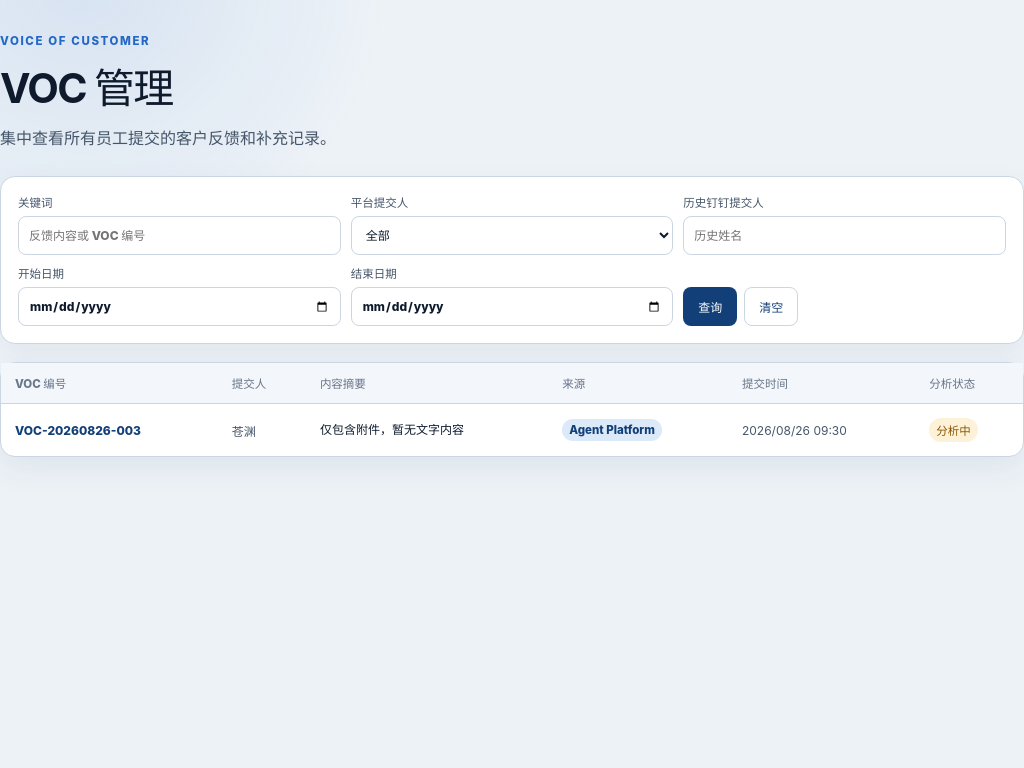
Test: VOC management page › renders an explicit placeholder for attachment-only history
Click the button "VOC-20260826-003": (78, 430) [15,423,141,438]
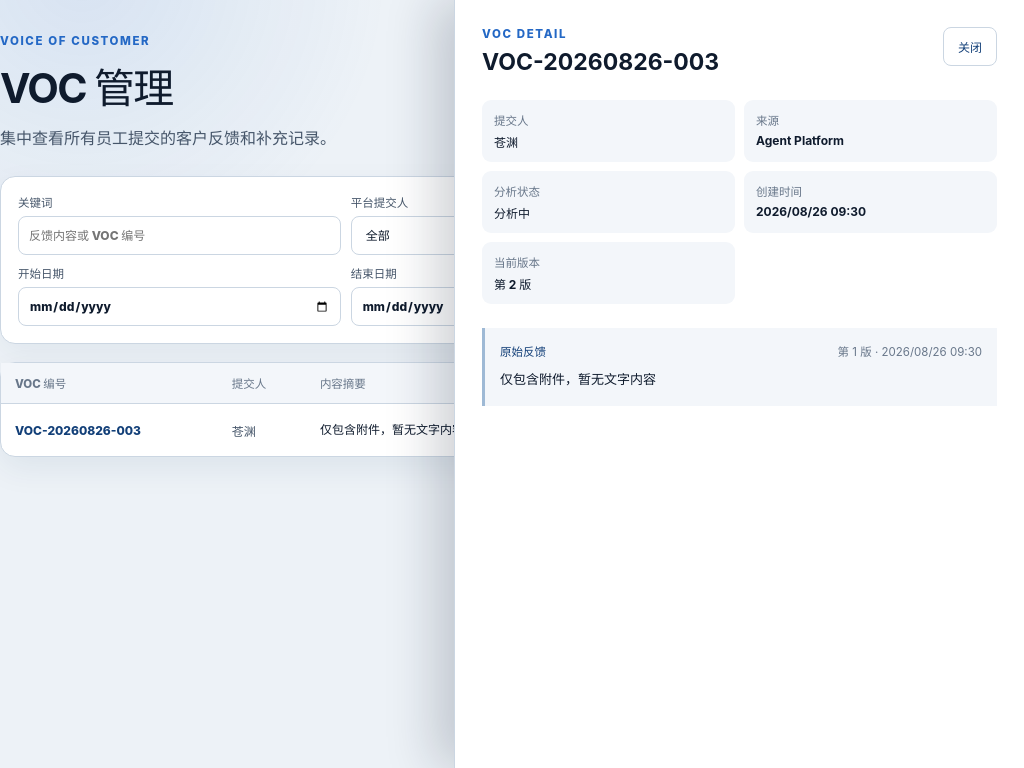
Expected: the element named "VOC 详情" shows "仅包含附件，暂无文字内容", [500,371,656,387]
